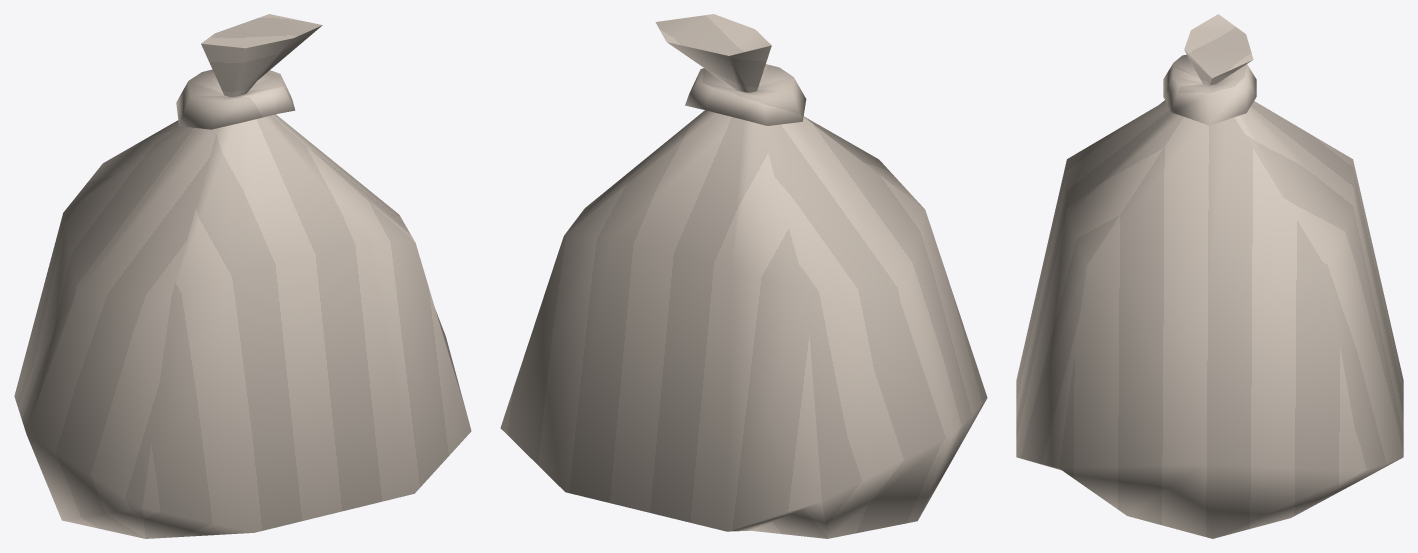
The model's file is Props_Bag.fbx.
The picture shows the model from 3 angles, left to right: view 1: azimuth 30°, elevation 25°; view 2: azimuth 150°, elevation 25°; view 3: azimuth 270°, elevation 25°; orthographic projection. The views are drawn at different scales.
Parts seen in each view (by area): view 1: Bag; view 2: Bag; view 3: Bag.
Boxes of the visible parts, x1=… form: Bag: x1=14, y1=14, x2=471, y2=538; Bag: x1=500, y1=14, x2=987, y2=538; Bag: x1=1016, y1=14, x2=1403, y2=538.
Size of the model in its own units: 1.22 by 1.24 by 1.02.
